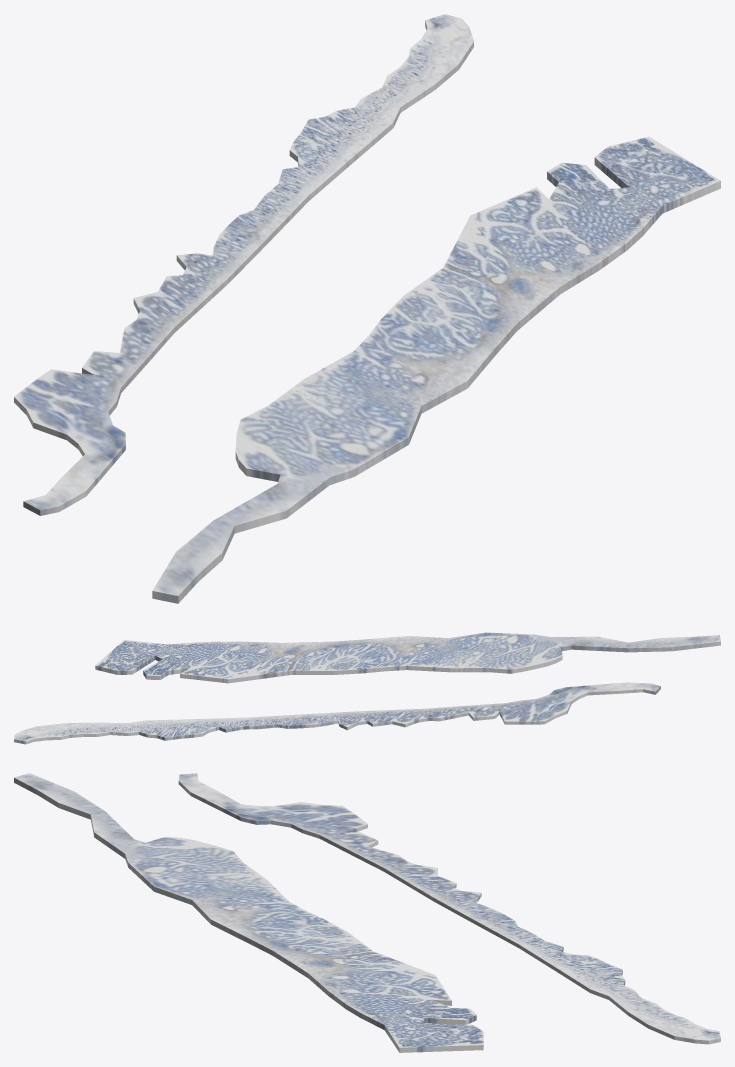
3 renders of one model, top to bottom at view 1: azimuth 30°, elevation 25°; view 2: azimuth 150°, elevation 25°; view 3: azimuth 270°, elevation 25°, orthographic. The views are drawn at different scales.
Visible parts, largest first — view 1: 平面; view 2: 平面; view 3: 平面.
Part boxes in pixels (x1,y1,x2,y2): 平面: (14,14,720,603); 平面: (14,632,720,744); 平面: (14,773,720,1052).
Bounding box in the file's own units: 18.02 × 0.1571 × 19.53.
1 material, 1 textured.
